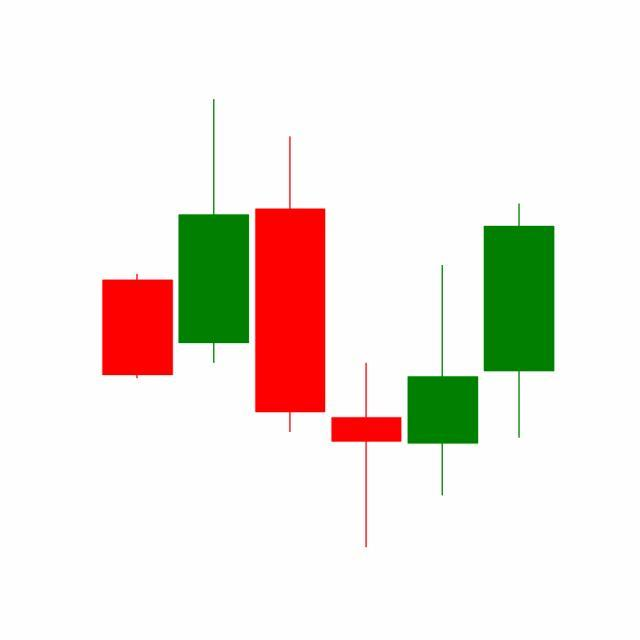Three Outside Up-Down: (326, 199, 555, 549)
